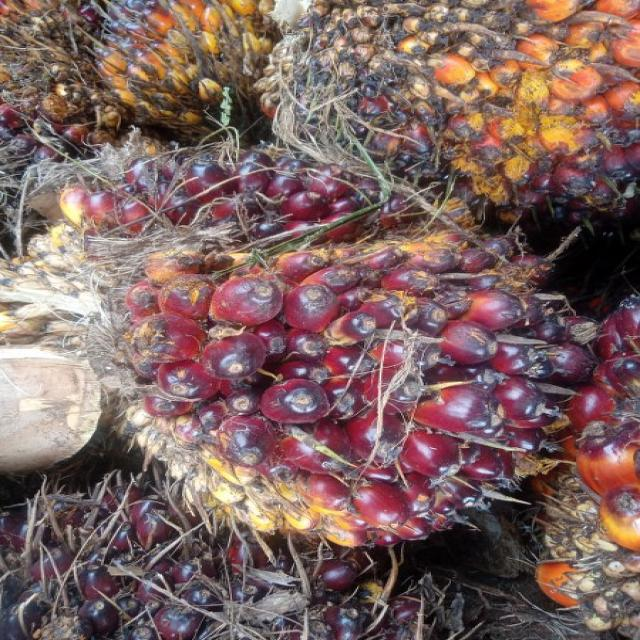fraksi 1: (47, 127, 589, 582)
